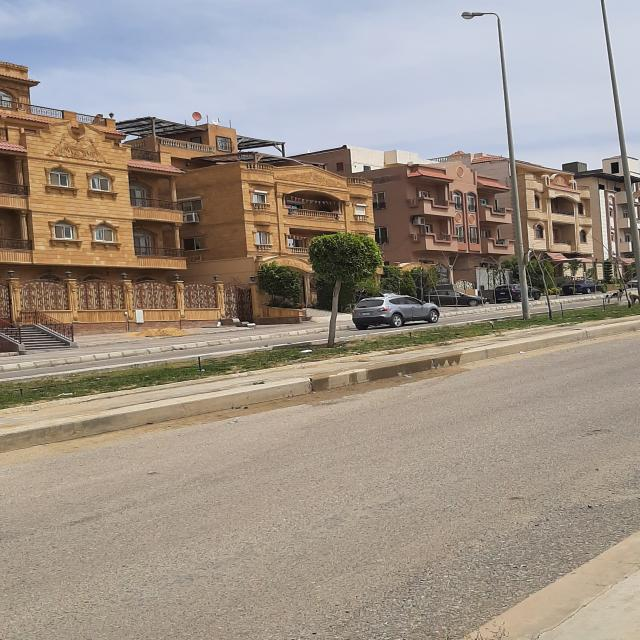Street Light: (460, 10, 534, 319)
